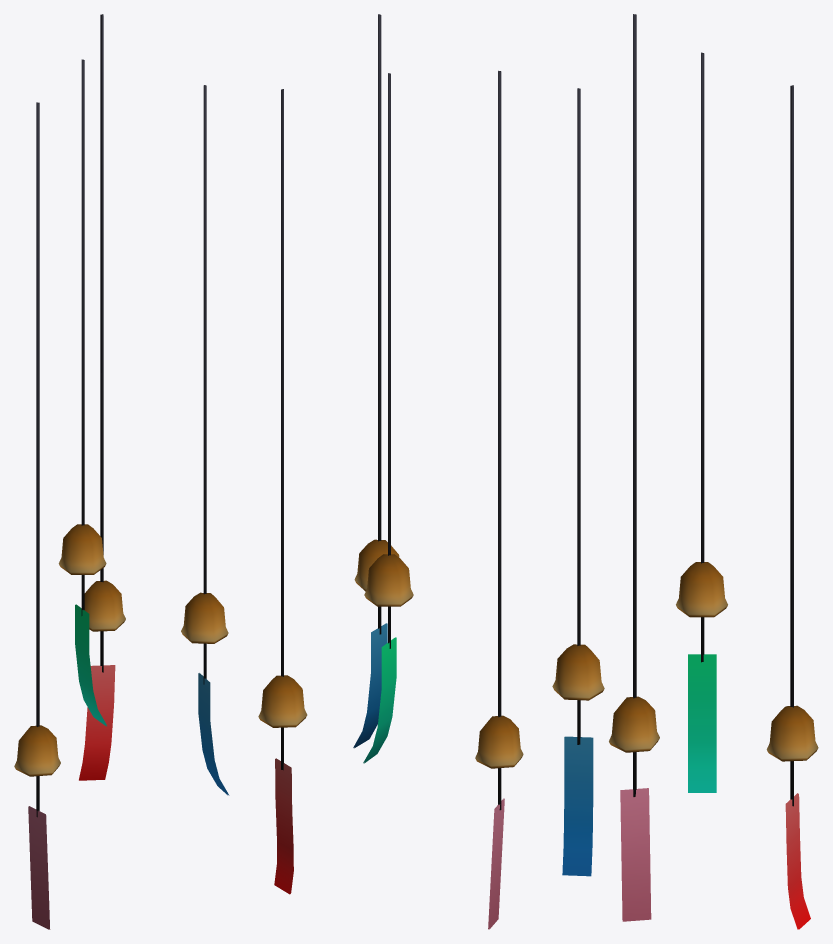
File: SK_Bell_001.FBX
3 views of the same model, side by side, from view 1: azimuth 30°, elevation 25°; view 2: azimuth 150°, elevation 25°; view 3: azimuth 270°, elevation 25° (orthographic). The views are drawn at different scales.
Visible parts, largest first — view 1: SK_Bell_001; view 2: SK_Bell_001; view 3: SK_Bell_001.
Part boxes in pixels (x1,y1,x2,y2): SK_Bell_001: (14,14,229,929); SK_Bell_001: (258,14,523,929); SK_Bell_001: (552,14,818,929).
Size of the model in its own units: 25.67 by 112 by 29.91.
Materials: 1 (1 with a texture image).
